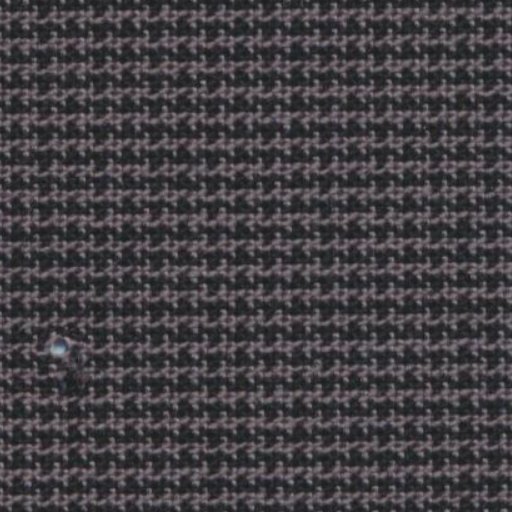PoDong: (20, 306, 116, 394)
